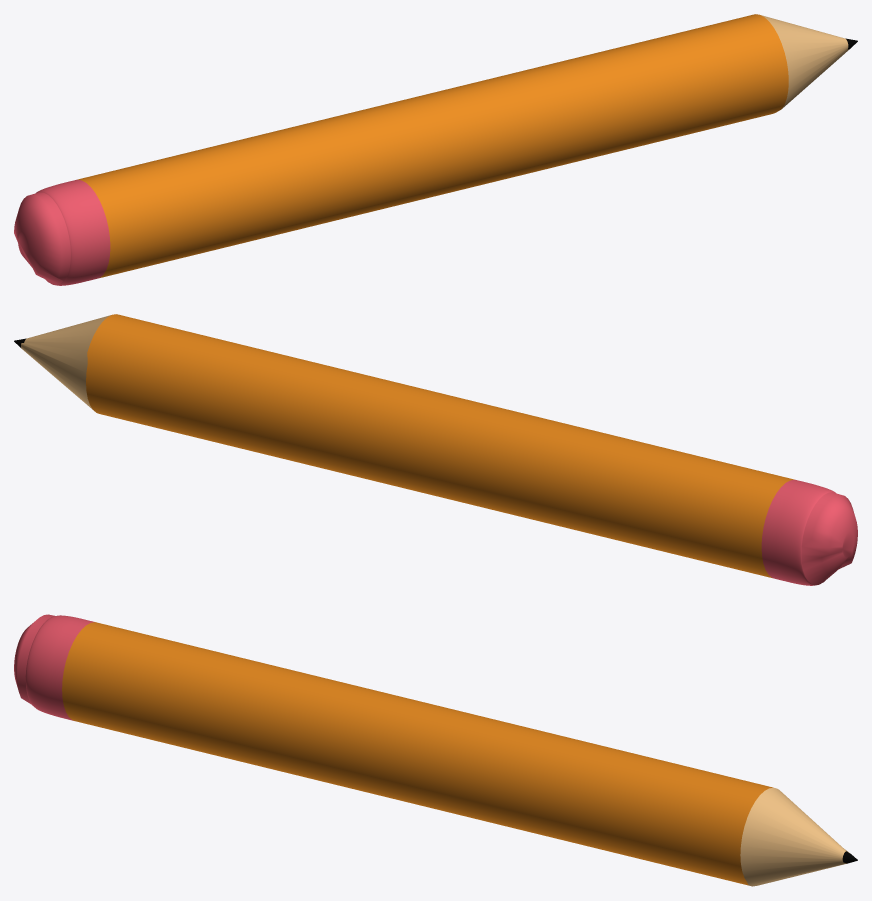
Rendered from olowek.fbx.
3 renders of one model, top to bottom at view 1: azimuth 30°, elevation 25°; view 2: azimuth 150°, elevation 25°; view 3: azimuth 330°, elevation 25°, orthographic.
Visible parts, largest first — view 1: olowek; view 2: olowek; view 3: olowek.
Part boxes in pixels (x1=…): olowek: x1=14, y1=14, x2=857, y2=285; olowek: x1=14, y1=314, x2=857, y2=585; olowek: x1=14, y1=614, x2=857, y2=886.
Bounding box in the file's own units: 39.35 × 4.2 × 3.95.
